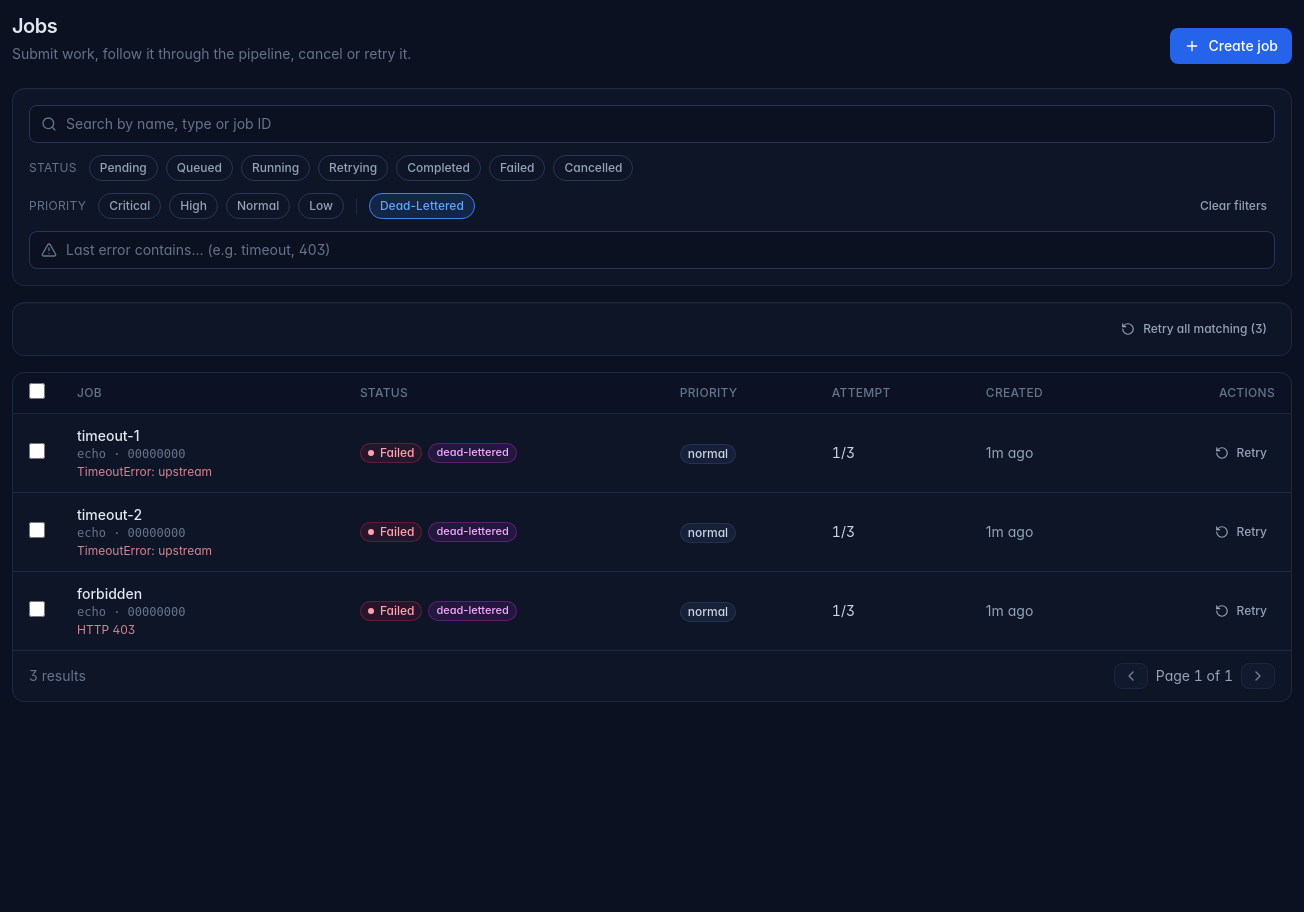
Test case: <JobsPage> › filters dead-lettered jobs by error and retries all matching after confirming
The image size is (1304, 912).
Expected: the text "forbidden" is shown, [77,585,142,602]
Type "timeout" into the field named "Filter by last error". click: (652, 250)
box: [29,231,1275,269]
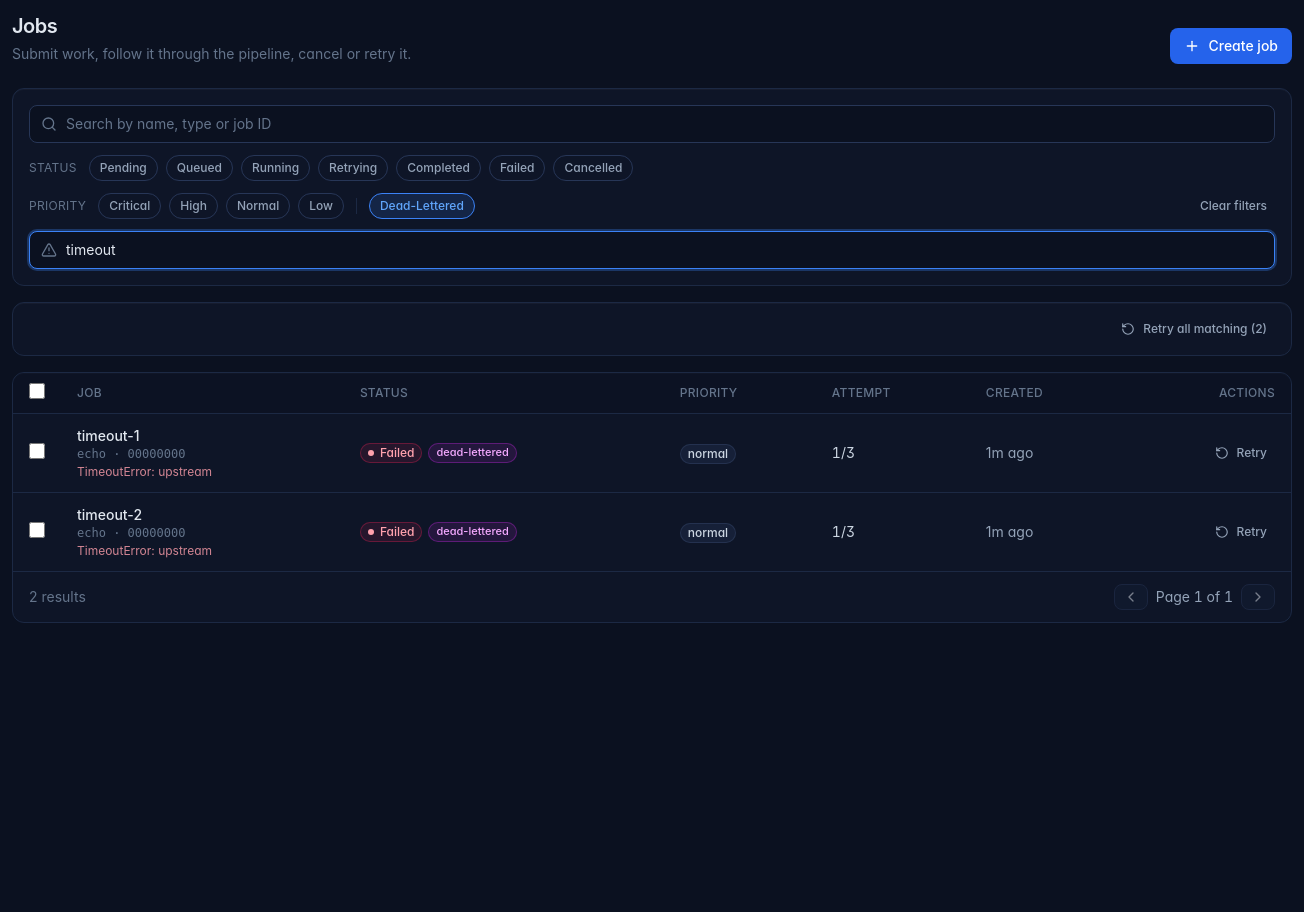
Result: the text "forbidden" is gone
Click the button "Retry all matching (2)". click: (1194, 329)
box: [1109,315,1279,343]
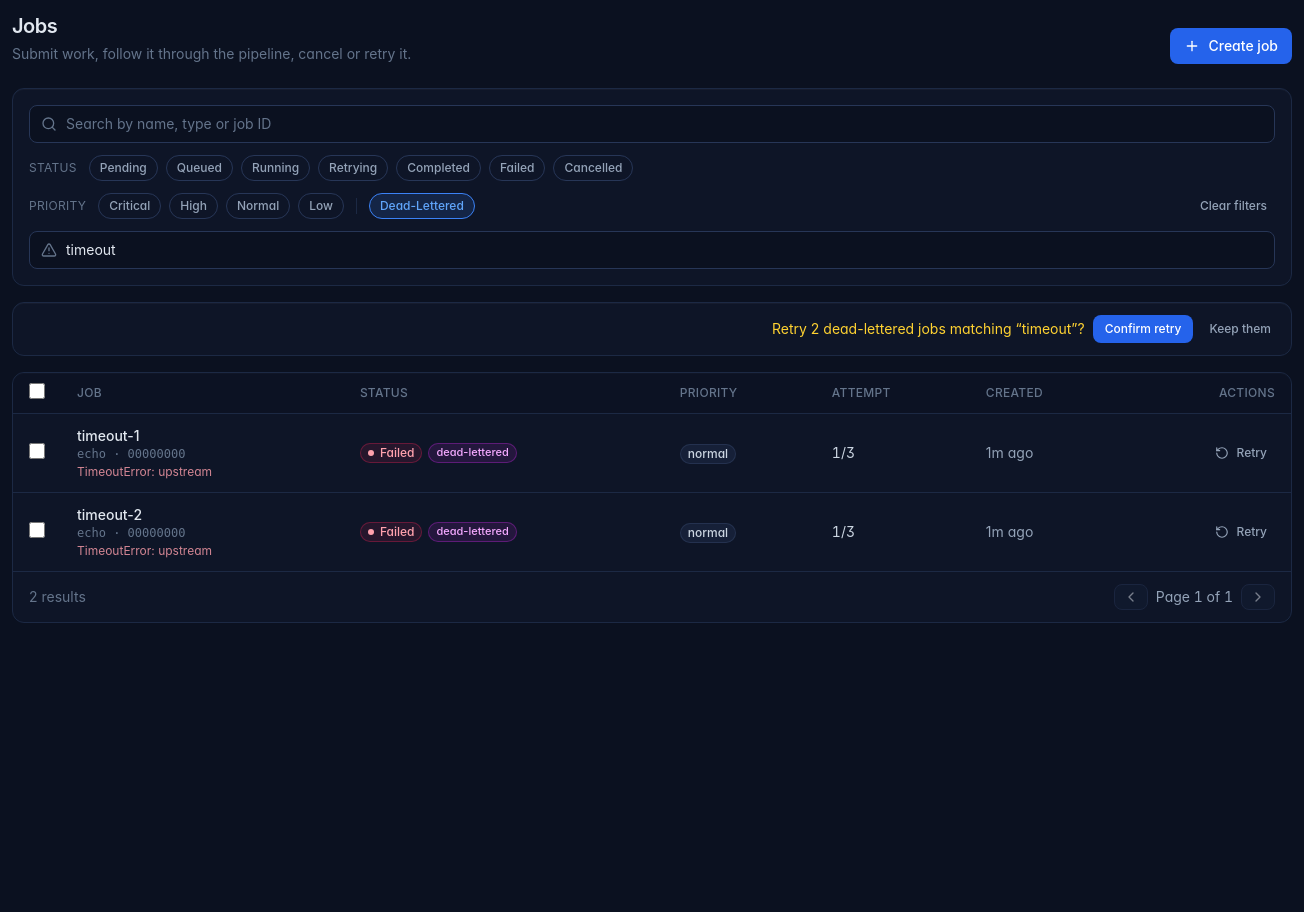
Result: the text "Retry 2 dead-lettered jobs matching “timeout”?" is shown at [772,319,1085,339]
Click the button "Confirm retry". click: (1143, 329)
box: [1093,315,1194,343]
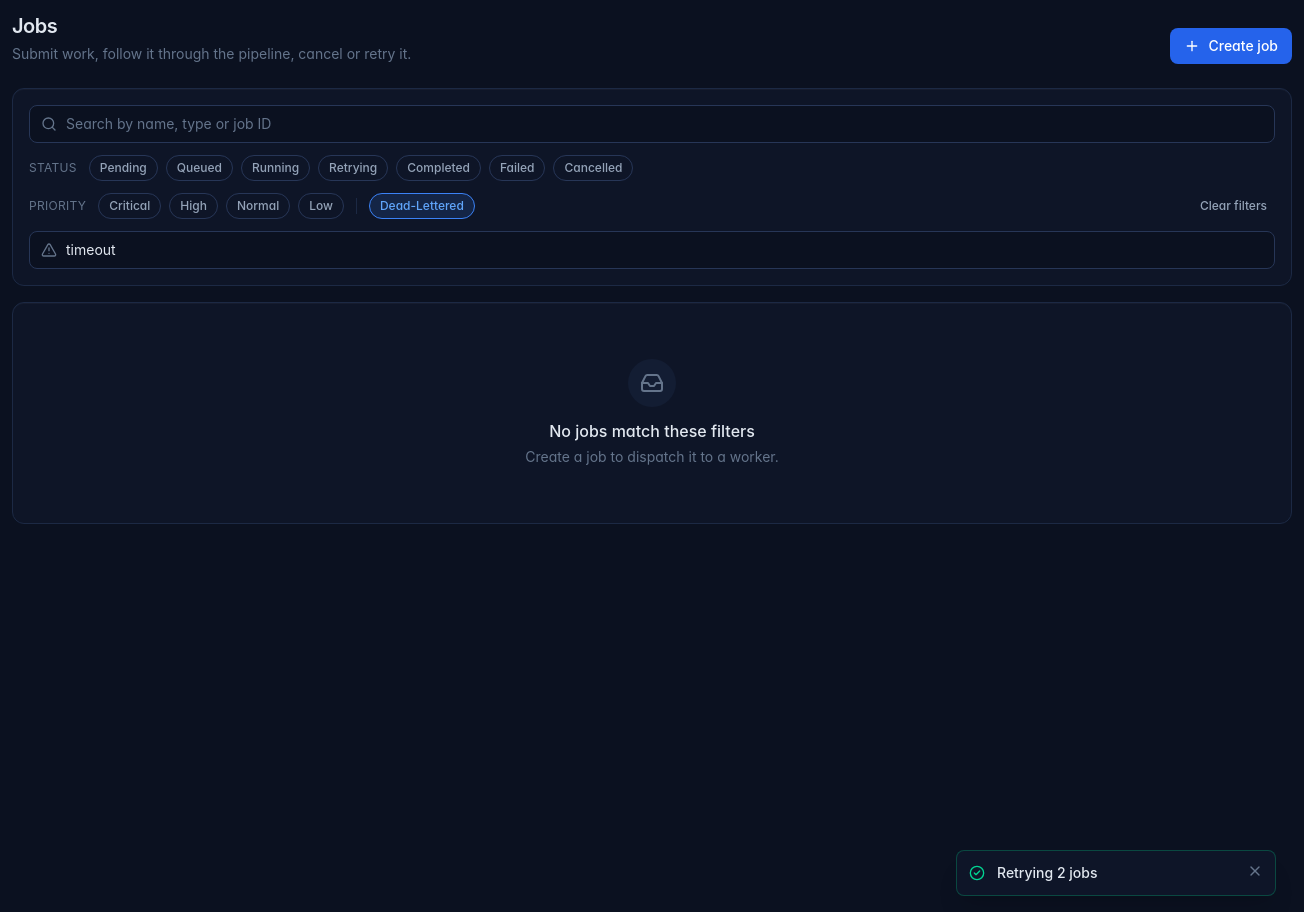
Result: the text "Retrying 2 jobs" is shown at [997,864,1098,881]
